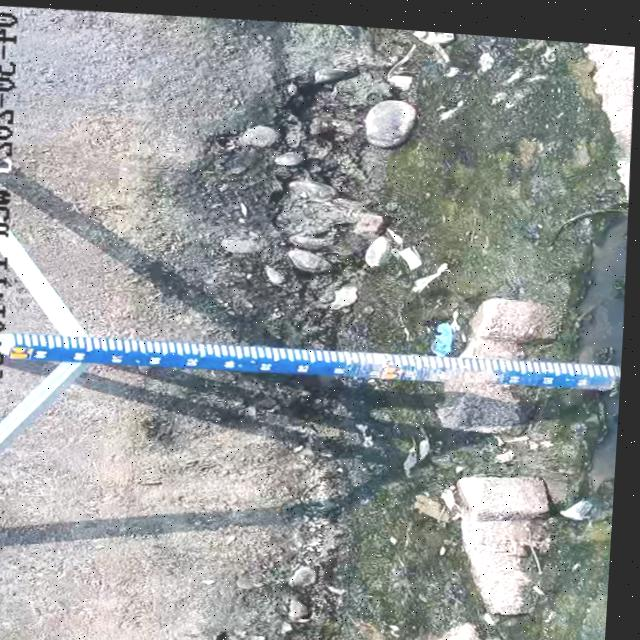water-meter: (1, 313, 620, 409)
